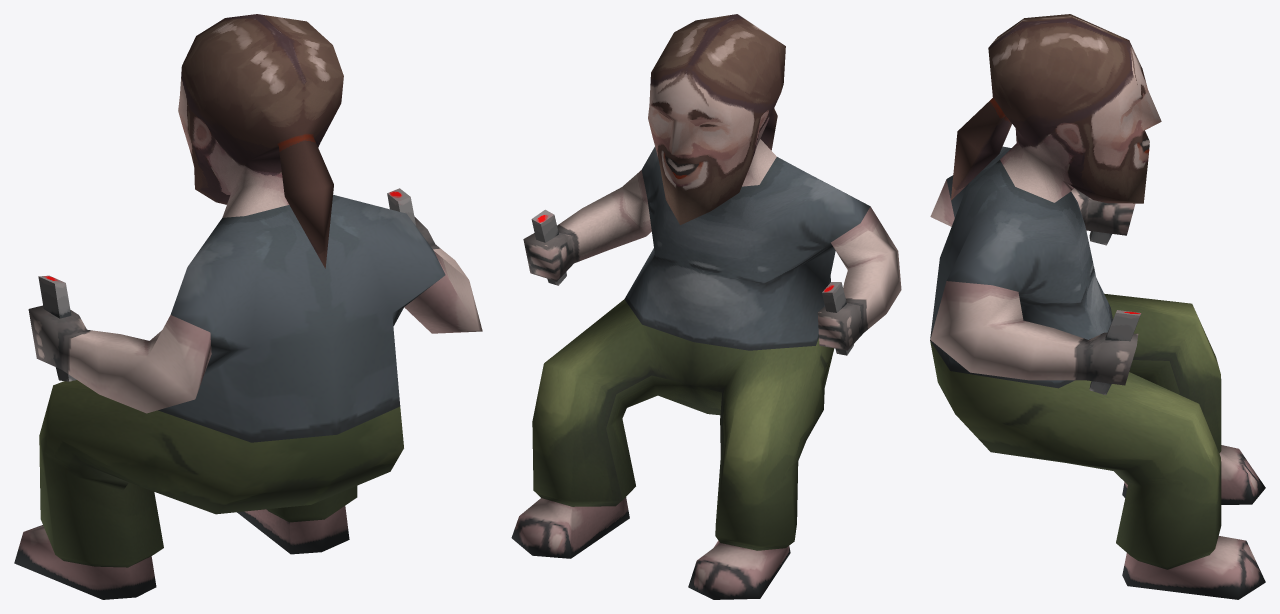
The model's file is player_pilot.obj.
3 renders of one model, left to right at view 1: azimuth 30°, elevation 25°; view 2: azimuth 150°, elevation 25°; view 3: azimuth 270°, elevation 25°, orthographic. The views are drawn at different scales.
Parts seen in each view (by area): view 1: pilot_Icosphere; view 2: pilot_Icosphere; view 3: pilot_Icosphere.
Part boxes in pixels (bbox=[...]): pilot_Icosphere: bbox=[14, 14, 482, 599]; pilot_Icosphere: bbox=[511, 14, 901, 599]; pilot_Icosphere: bbox=[930, 14, 1265, 599].
Bounding box in the file's own units: 0.7522 × 1.09 × 0.64.
1 material, 1 textured.
